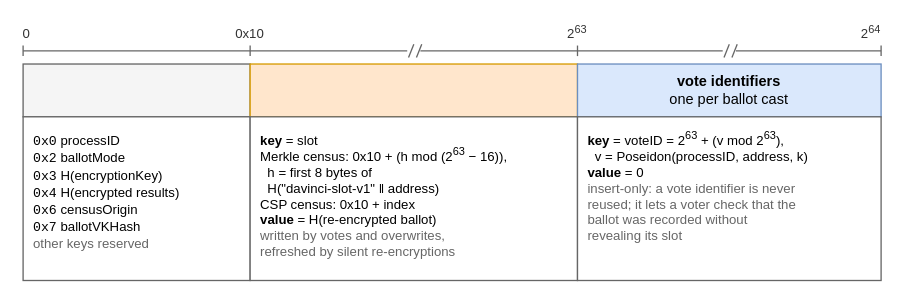
This 906x304 diagram has some shape labels left out. The centre of each missing label's shape, as x and y in pixels:
configuration 16 keys: pixel 136 90
encrypted ballots one slot per voter: pixel 413 90
